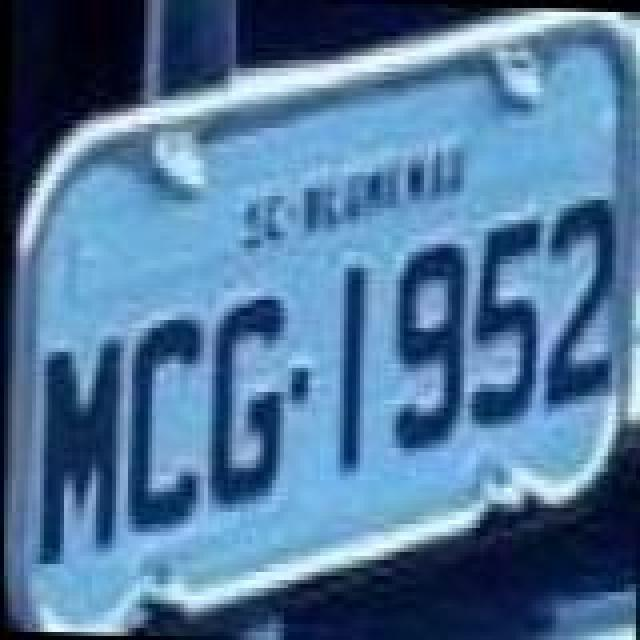1: (336, 262, 368, 478)
2: (538, 196, 618, 412)
5: (466, 214, 546, 430)
9: (386, 238, 466, 458)
C: (116, 312, 200, 540)
G: (208, 284, 288, 512)
M: (30, 334, 126, 570)
